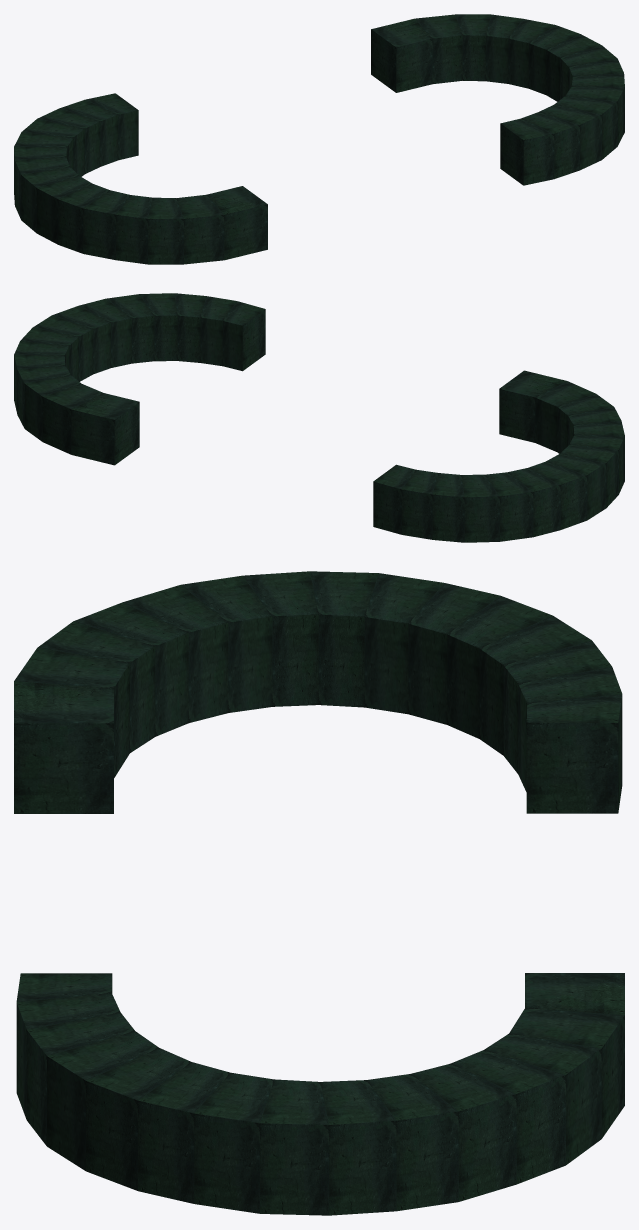
File: BancoMaterial_Plaza01.fbx
3 views of the same model, one above another, from view 1: azimuth 30°, elevation 25°; view 2: azimuth 150°, elevation 25°; view 3: azimuth 270°, elevation 25° (orthographic). The views are drawn at different scales.
Visible parts, largest first — view 1: Cube.001; view 2: Cube.001; view 3: Cube.001.
Part boxes in pixels (x1,y1,x2,y2): Cube.001: (14,14,624,264); Cube.001: (14,293,624,542); Cube.001: (14,571,624,1215).
Bounding box in the file's own units: 1574 × 120 × 734.
